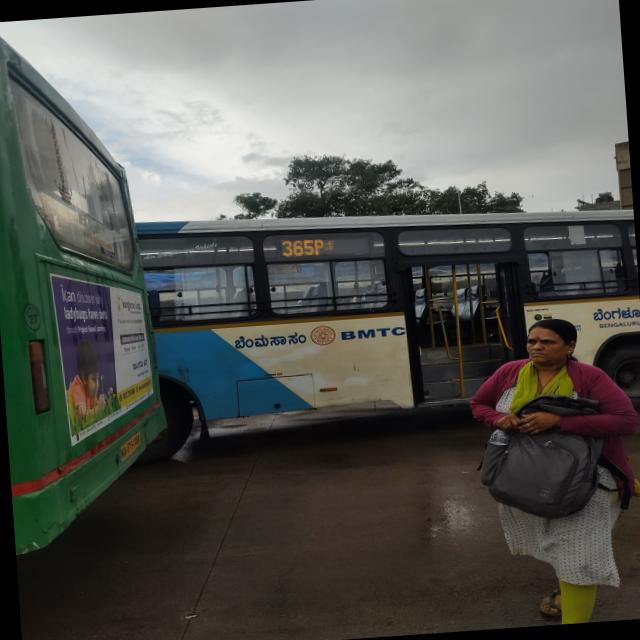bus: (136, 182, 640, 470), (0, 12, 179, 580)
display: (268, 218, 388, 266)
dnumber: (276, 230, 330, 264)
